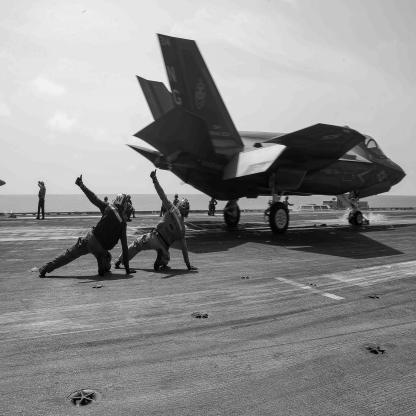F35: (125, 33, 408, 235)
